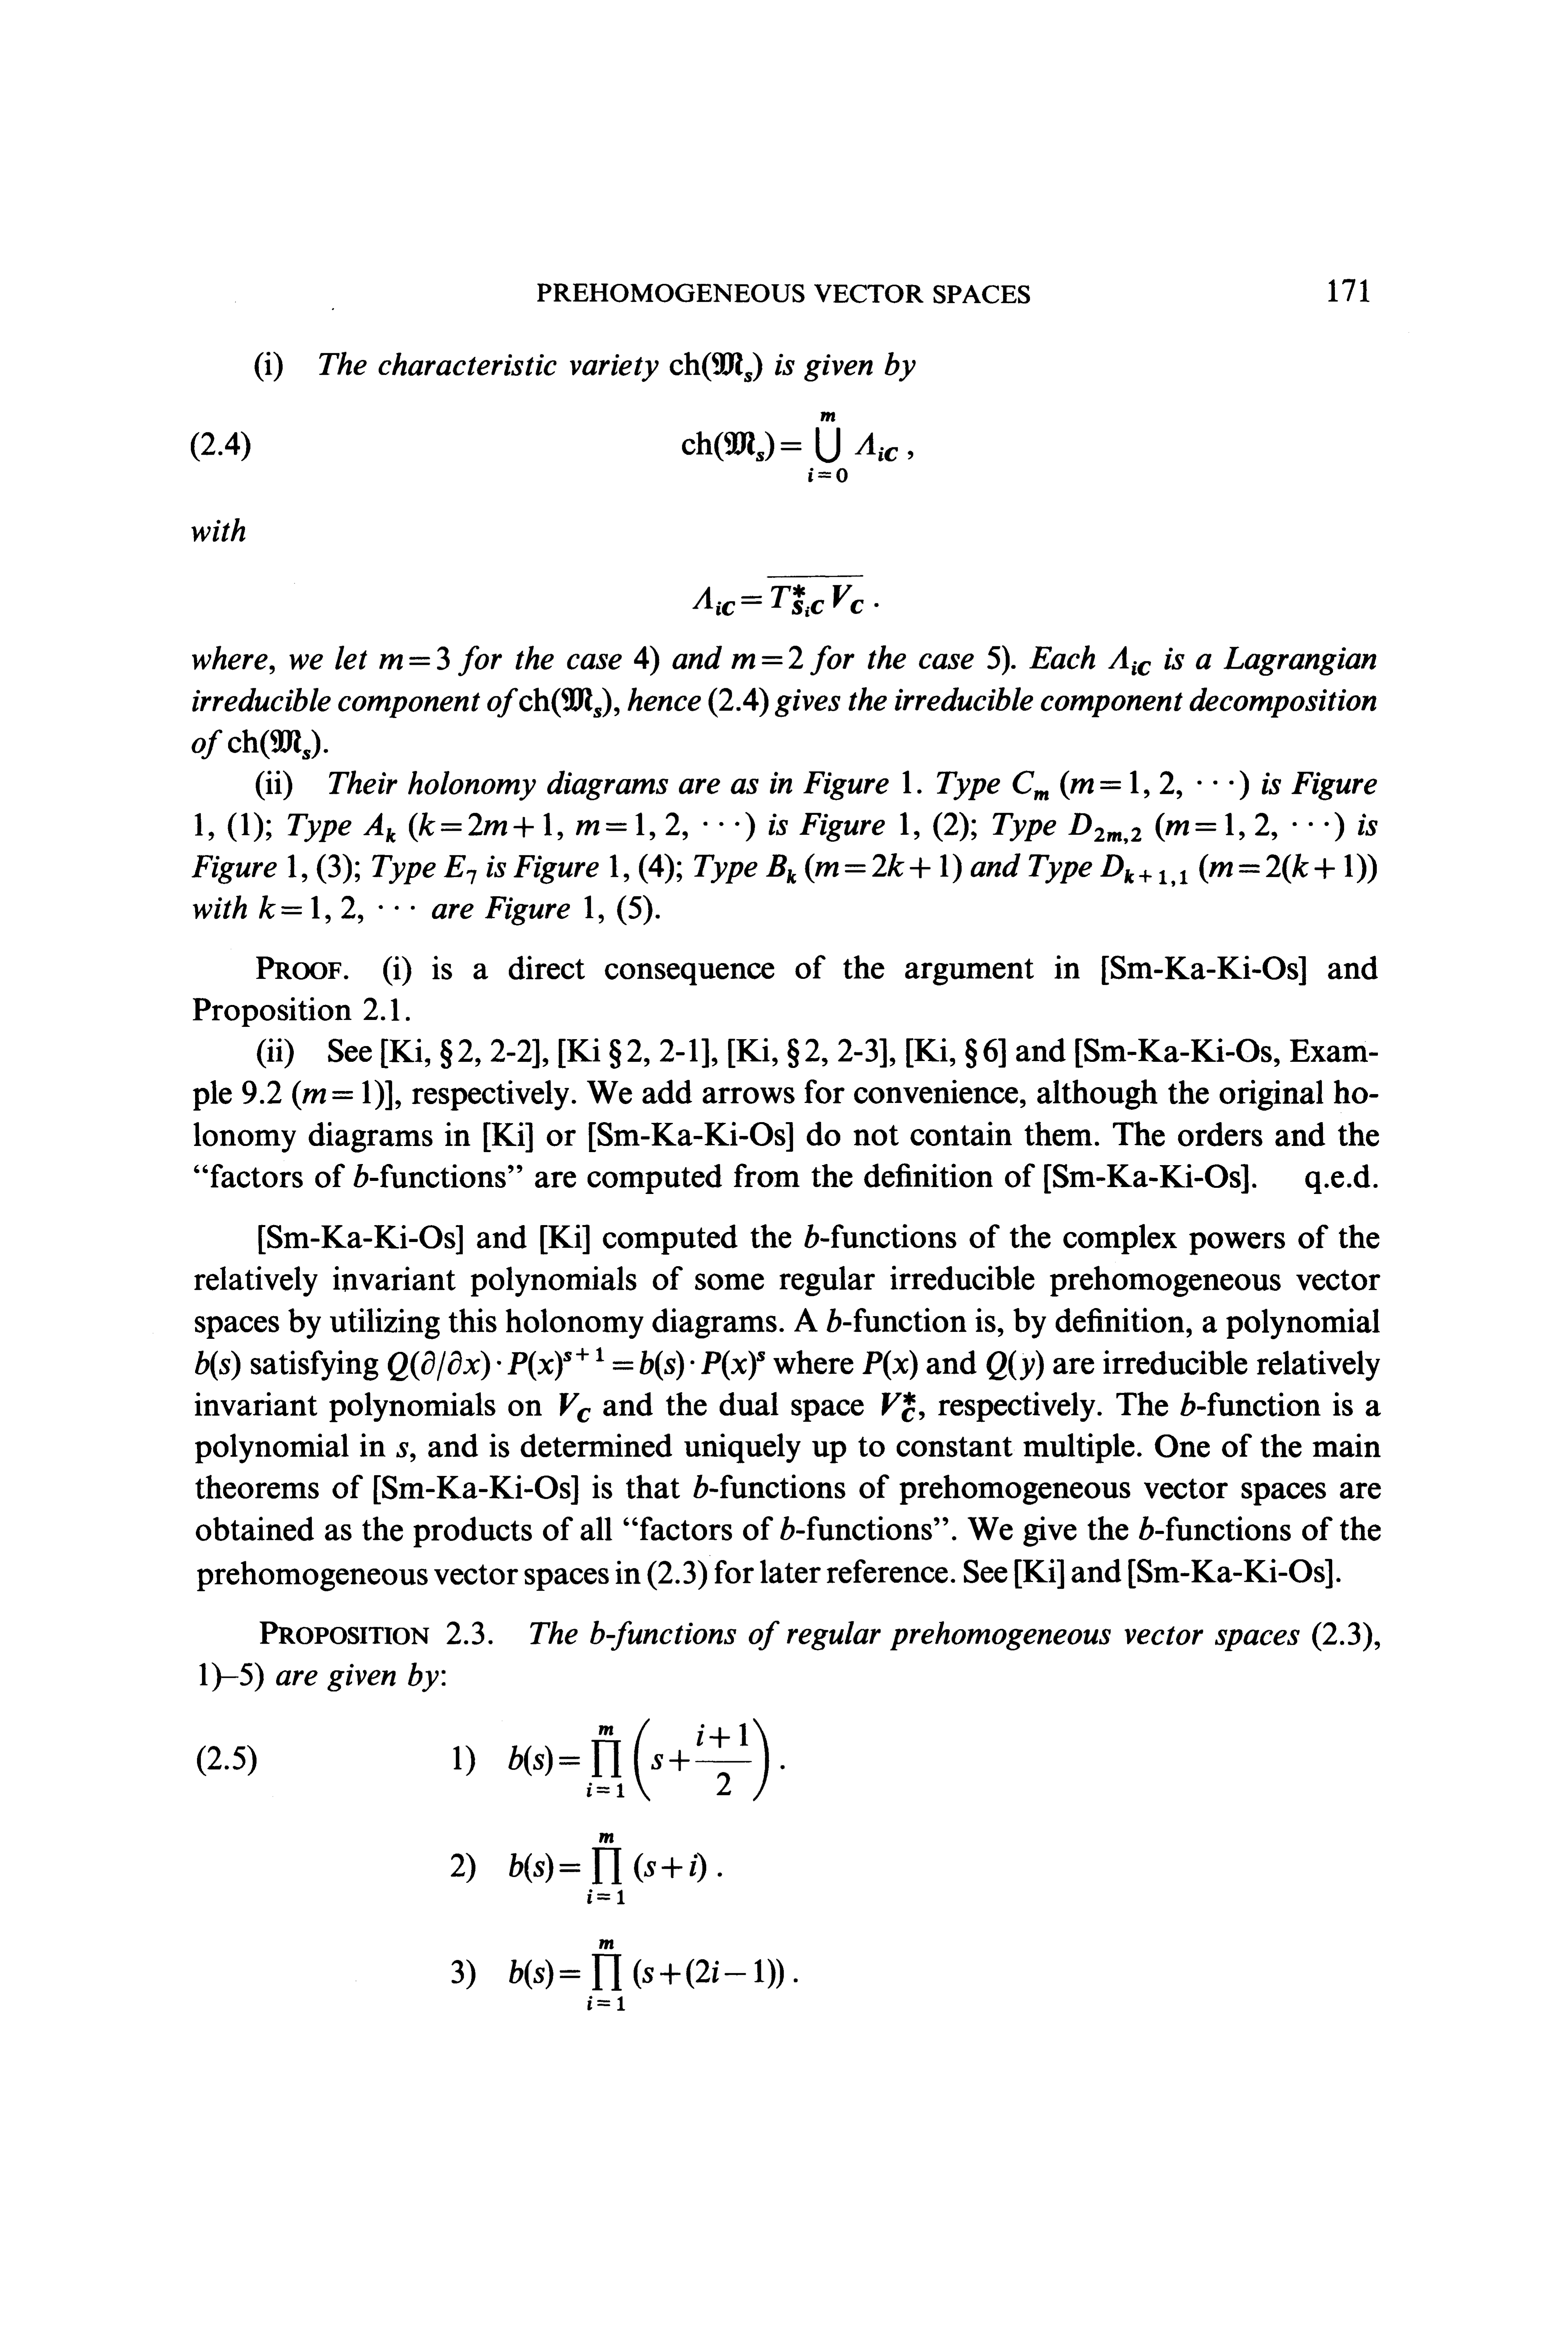maths: (507, 1719, 768, 1801), (509, 1939, 784, 2011), (683, 411, 898, 481), (509, 1832, 705, 1904), (388, 1348, 765, 1381), (693, 585, 863, 616), (1061, 770, 1234, 800), (1199, 854, 1367, 884), (1155, 814, 1328, 842), (576, 812, 739, 840), (259, 894, 415, 922), (409, 812, 551, 842), (805, 854, 949, 882), (497, 688, 611, 718), (228, 730, 320, 760), (1101, 854, 1188, 886), (670, 352, 761, 382), (292, 1080, 371, 1110), (1069, 814, 1141, 844), (987, 1349, 1043, 1379), (732, 646, 803, 669), (863, 1349, 917, 1379), (380, 648, 450, 670), (194, 1351, 240, 1381), (1108, 646, 1151, 676), (1013, 770, 1048, 800), (882, 1391, 915, 1421), (766, 854, 796, 884), (560, 1393, 590, 1423), (364, 814, 396, 842), (445, 856, 476, 884), (781, 1516, 794, 1540), (1139, 1516, 1153, 1540), (354, 1164, 367, 1187), (805, 1225, 819, 1248), (828, 1309, 842, 1332), (1181, 1393, 1195, 1416), (693, 1475, 707, 1498), (590, 1621, 604, 1643), (396, 1442, 408, 1456)
